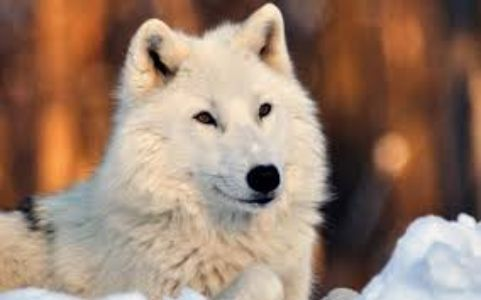wolf: (44, 2, 340, 298)
